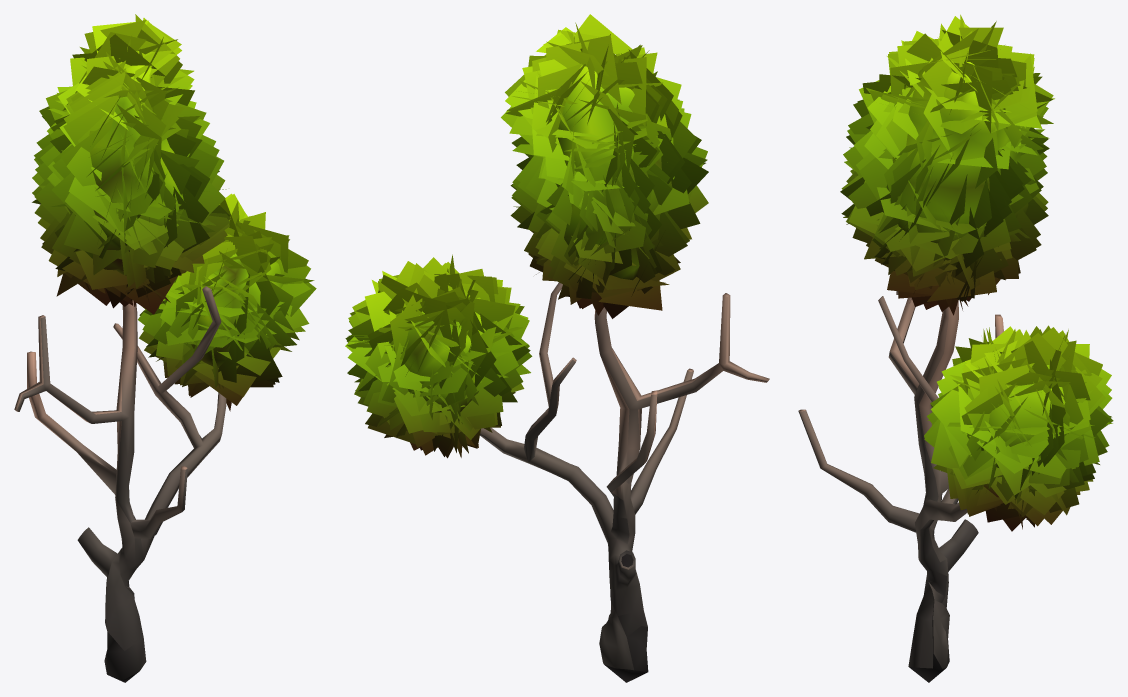
Rendered from Forest_Tree_3A.fbx.
3 views of the same model, side by side, from view 1: azimuth 30°, elevation 25°; view 2: azimuth 150°, elevation 25°; view 3: azimuth 270°, elevation 25° (orthographic). The views are drawn at different scales.
Visible parts, largest first — view 1: Forest_Tree_3A; view 2: Forest_Tree_3A; view 3: Forest_Tree_3A.
Boxes of the visible parts, x1,y1,x2,y2 form: Forest_Tree_3A: [14, 14, 316, 682]; Forest_Tree_3A: [345, 14, 769, 682]; Forest_Tree_3A: [798, 14, 1113, 682].
Size of the model in its own units: 377 by 680 by 289.
